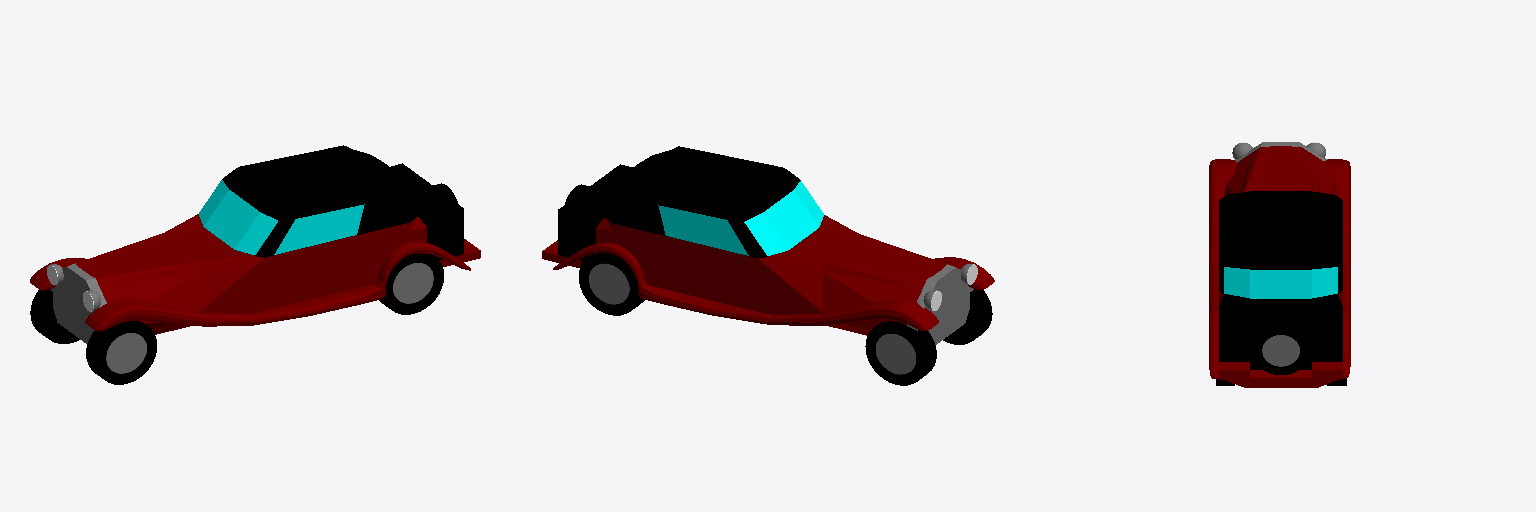
3 renders of one model, left to right at view 1: azimuth 30°, elevation 25°; view 2: azimuth 150°, elevation 25°; view 3: azimuth 270°, elevation 25°, orthographic.
Parts seen in each view (by area): view 1: Cube, Cube.001, Cylinder.001, Cylinder.006_Cylinder.007, Cylinder.005, Cube.002; view 2: Cube, Cube.002, Cylinder.005, Cylinder.003_Cylinder.006, Cylinder.001, Cube.001; view 3: Cube, Cube.001, Cylinder.004_Cylinder.008, Cube.002.
Part boxes in pixels (bbox=[...]): Cube: bbox=[50, 145, 480, 343]; Cube.001: bbox=[85, 242, 470, 331]; Cylinder.001: bbox=[86, 321, 156, 384]; Cylinder.006_Cylinder.007: bbox=[379, 253, 443, 314]; Cylinder.005: bbox=[30, 290, 79, 343]; Cube.002: bbox=[30, 258, 86, 290]; Cube: bbox=[542, 146, 973, 344]; Cube.002: bbox=[553, 243, 938, 330]; Cylinder.005: bbox=[865, 321, 936, 385]; Cylinder.003_Cylinder.006: bbox=[579, 253, 644, 315]; Cylinder.001: bbox=[943, 289, 992, 344]; Cube.001: bbox=[933, 257, 994, 290]; Cube: bbox=[1219, 142, 1342, 387]; Cube.001: bbox=[1209, 159, 1236, 379]; Cylinder.004_Cylinder.008: bbox=[1253, 320, 1309, 374]; Cube.002: bbox=[1324, 159, 1350, 379].
Size of the model in its own units: 7.25 by 2.32 by 2.29.
10 materials, 2 textured.